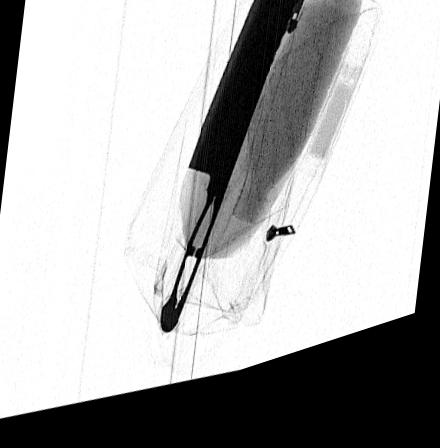Knife: (159, 0, 305, 344)
